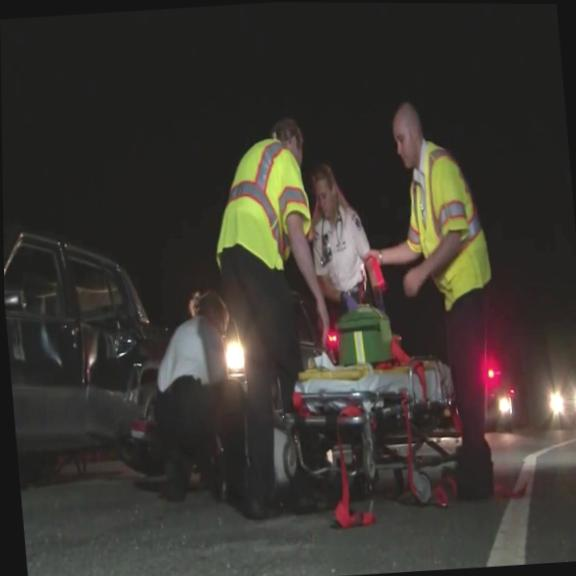safety_vest: (398, 128, 495, 312), (205, 135, 319, 273)
